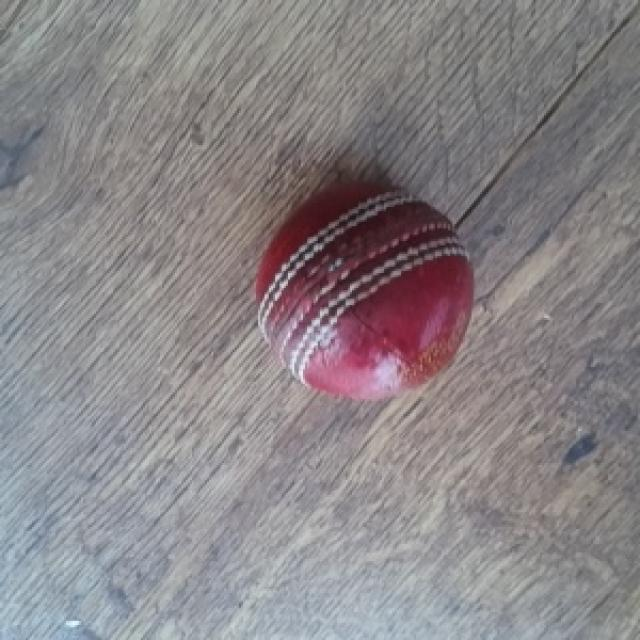ball: (252, 179, 476, 405)
